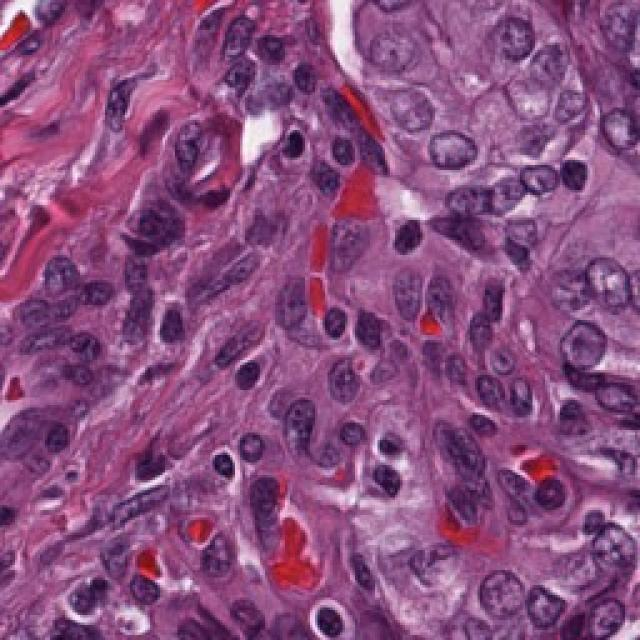abnormal: (349, 7, 448, 93), (14, 235, 99, 332), (437, 547, 528, 636), (559, 217, 635, 323), (536, 304, 636, 382), (262, 243, 327, 357), (182, 499, 262, 589), (497, 135, 574, 225), (476, 62, 564, 138), (365, 248, 433, 343), (406, 104, 490, 180), (575, 87, 640, 184), (307, 203, 376, 293), (529, 239, 608, 316), (260, 393, 333, 474), (472, 0, 556, 70), (372, 70, 444, 143), (577, 510, 640, 580), (158, 114, 224, 178), (464, 331, 530, 391), (518, 578, 585, 637), (435, 173, 502, 231), (569, 592, 640, 640), (530, 464, 578, 529)
